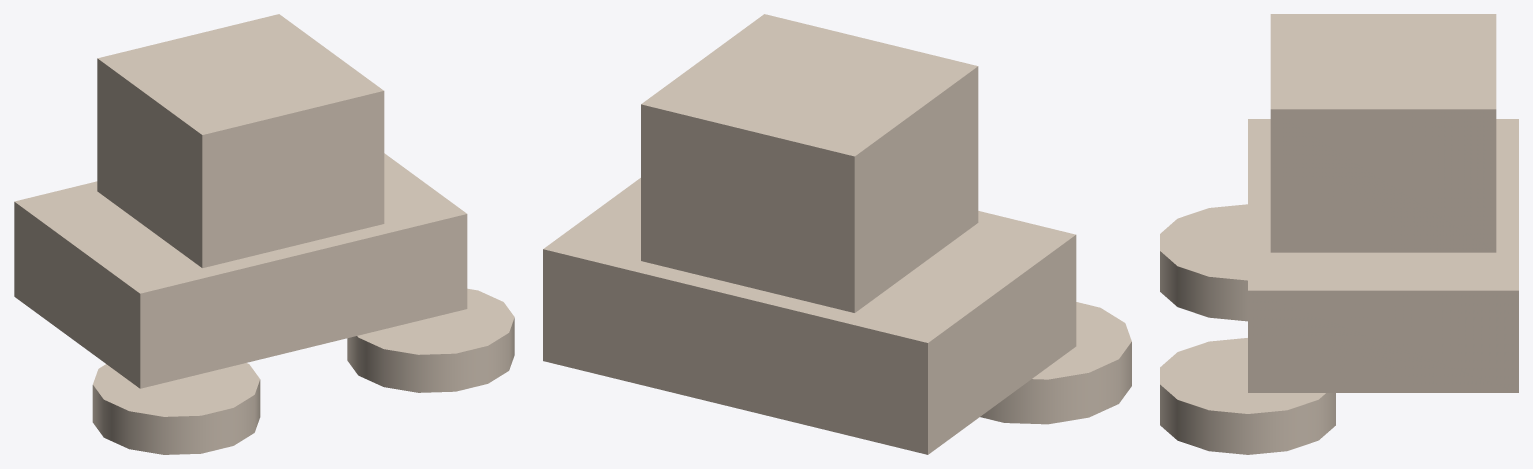
File: terra_robotics.gltf
3 views of the same model, side by side, from view 1: azimuth 30°, elevation 25°; view 2: azimuth 150°, elevation 25°; view 3: azimuth 270°, elevation 25° (orthographic). The views are drawn at different scales.
Parts seen in each view (by area): view 1: terra_robotics; view 2: terra_robotics; view 3: terra_robotics.
Part boxes in pixels (bbox=[...]): terra_robotics: bbox=[14, 14, 514, 454]; terra_robotics: bbox=[543, 14, 1131, 454]; terra_robotics: bbox=[1160, 14, 1518, 454].
Bounding box in the file's own units: 1.1 × 0.705 × 0.795.
